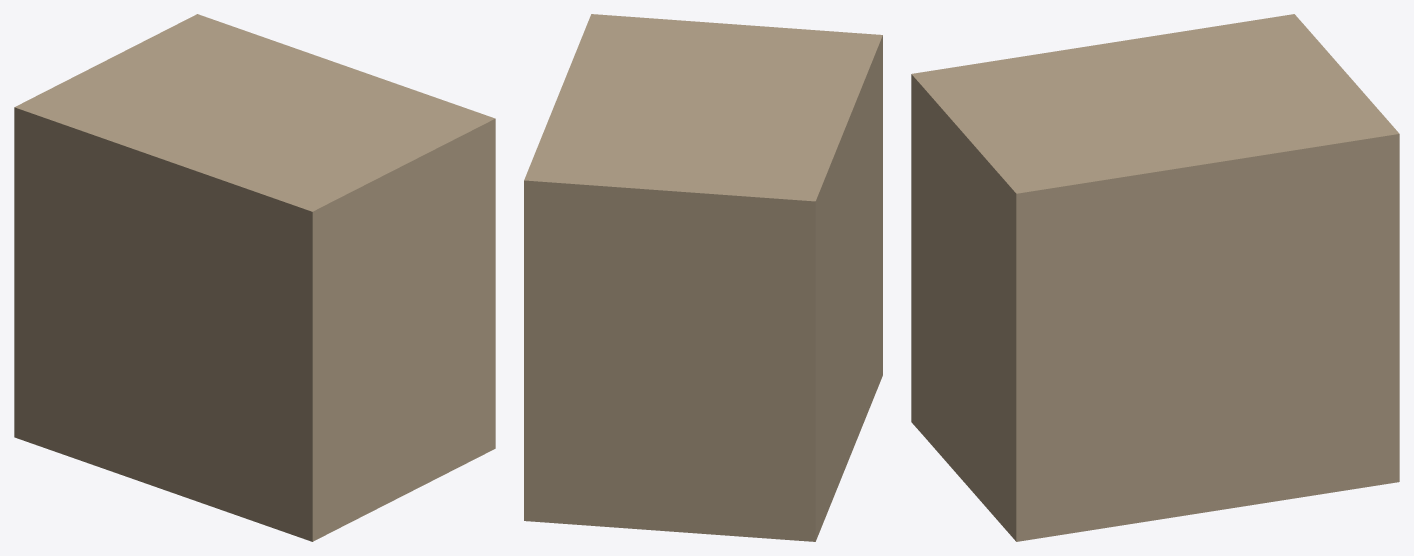
Rendered from bld_108162235.dae.
The picture shows the model from 3 angles, left to right: view 1: azimuth 30°, elevation 25°; view 2: azimuth 150°, elevation 25°; view 3: azimuth 270°, elevation 25°; orthographic projection. The views are drawn at different scales.
Visible parts, largest first — view 1: bld_108162235; view 2: bld_108162235; view 3: bld_108162235.
Boxes of the visible parts, x1,y1,x2,y2 form: bld_108162235: (14,14,495,541); bld_108162235: (524,14,882,541); bld_108162235: (911,14,1399,541).
Bounding box in the file's own units: 8.86 × 10.17 × 8.
